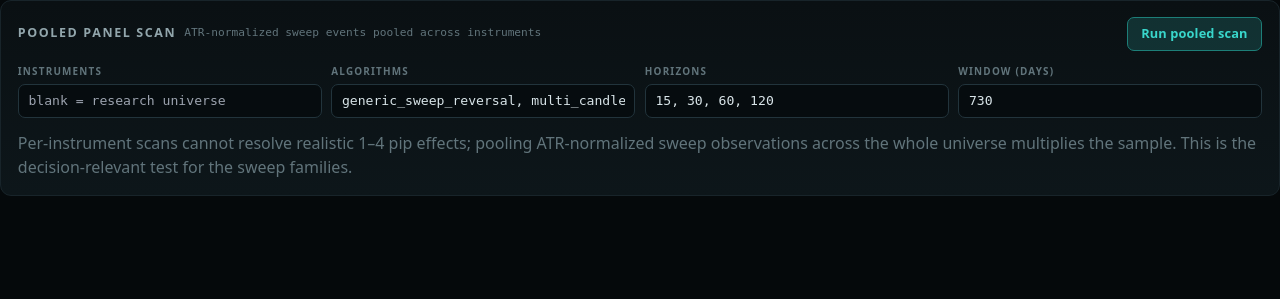
Test: submits the pooled scan payload and renders FDR-gated rows
Expected: the field labelled "Instruments" is empty, [18, 84, 322, 118]
Expected: the field labelled "Algorithms" holds "generic_sweep_reversal, multi_candle_sweep_reclaim_reversal", [331, 84, 635, 118]
What coordinates should you click on to do the following:
click the button "Run pooled scan"
I would click on:
 (1194, 34)
Its box is [1127, 17, 1262, 51].
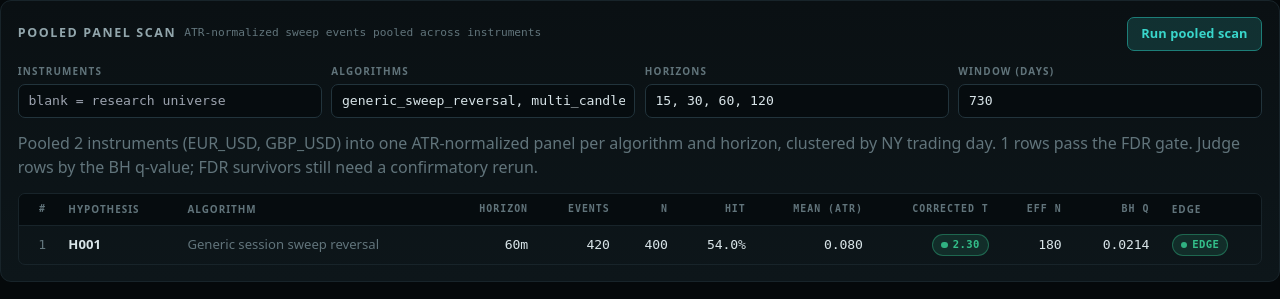
Expected: the text "Generic session sweep reversal" is shown, [176, 225, 449, 264]
Expected: the text "60m" is shown, [449, 225, 539, 264]
Expected: the text "edge" is shown, [1172, 234, 1228, 256]
